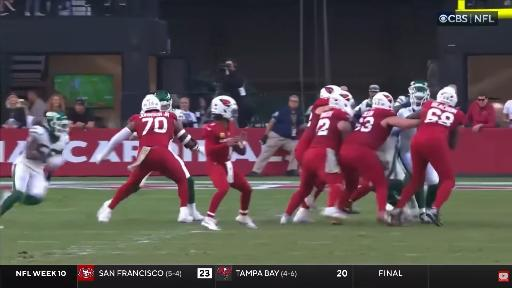Helmet: (408, 81, 430, 110), (211, 96, 237, 120), (44, 112, 68, 135), (329, 95, 353, 117), (436, 87, 457, 106), (372, 92, 393, 109), (155, 90, 172, 111), (142, 94, 161, 112), (329, 95, 350, 110), (320, 86, 342, 98), (342, 91, 354, 108)
Jersey: (344, 108, 396, 150), (417, 100, 464, 142), (130, 112, 177, 148), (296, 99, 329, 150), (310, 109, 349, 151), (202, 122, 232, 163), (27, 126, 51, 155), (308, 98, 329, 127), (395, 128, 417, 152), (51, 134, 69, 155), (355, 99, 372, 114), (167, 108, 183, 121), (171, 109, 183, 119)
Player: (97, 95, 200, 222), (339, 92, 419, 221), (391, 87, 464, 225), (281, 92, 351, 223), (202, 96, 256, 230), (0, 112, 68, 215), (295, 86, 342, 166), (176, 156, 203, 221), (398, 129, 416, 174)
